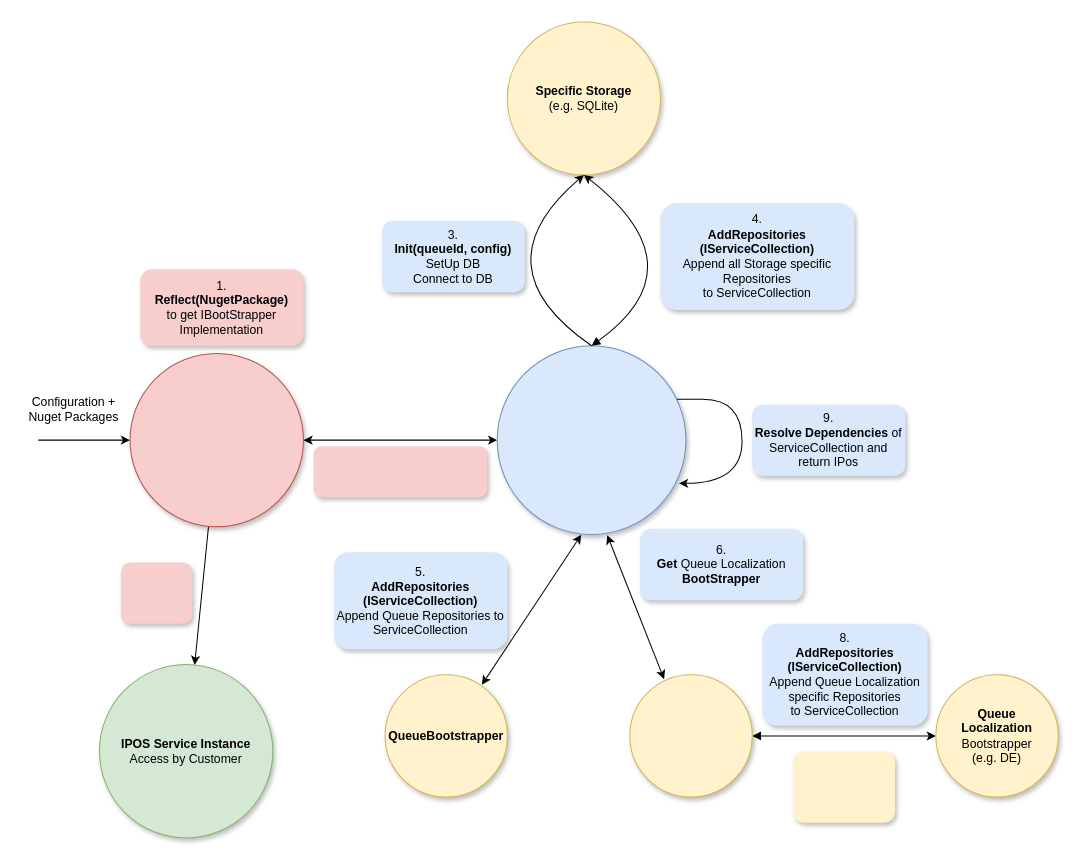
Image size: 1082x863. Some labels were removed from this diagram. The centre of each missing label's shape, as x and y in pixels:
"10. Publish Service" goes at (x=157, y=594).
"2. CreatePosInstance(config) return IPOS service" goes at (x=401, y=473).
"7. Create Instance of Localization BootStrapper" goes at (x=844, y=788).
"fiskaltrust.Middleware.Queue. StorageSpecificImplementation" goes at (x=592, y=441).
"Launcher" goes at (x=217, y=441).
"LocalizedQueue Factory" goes at (x=691, y=737).
